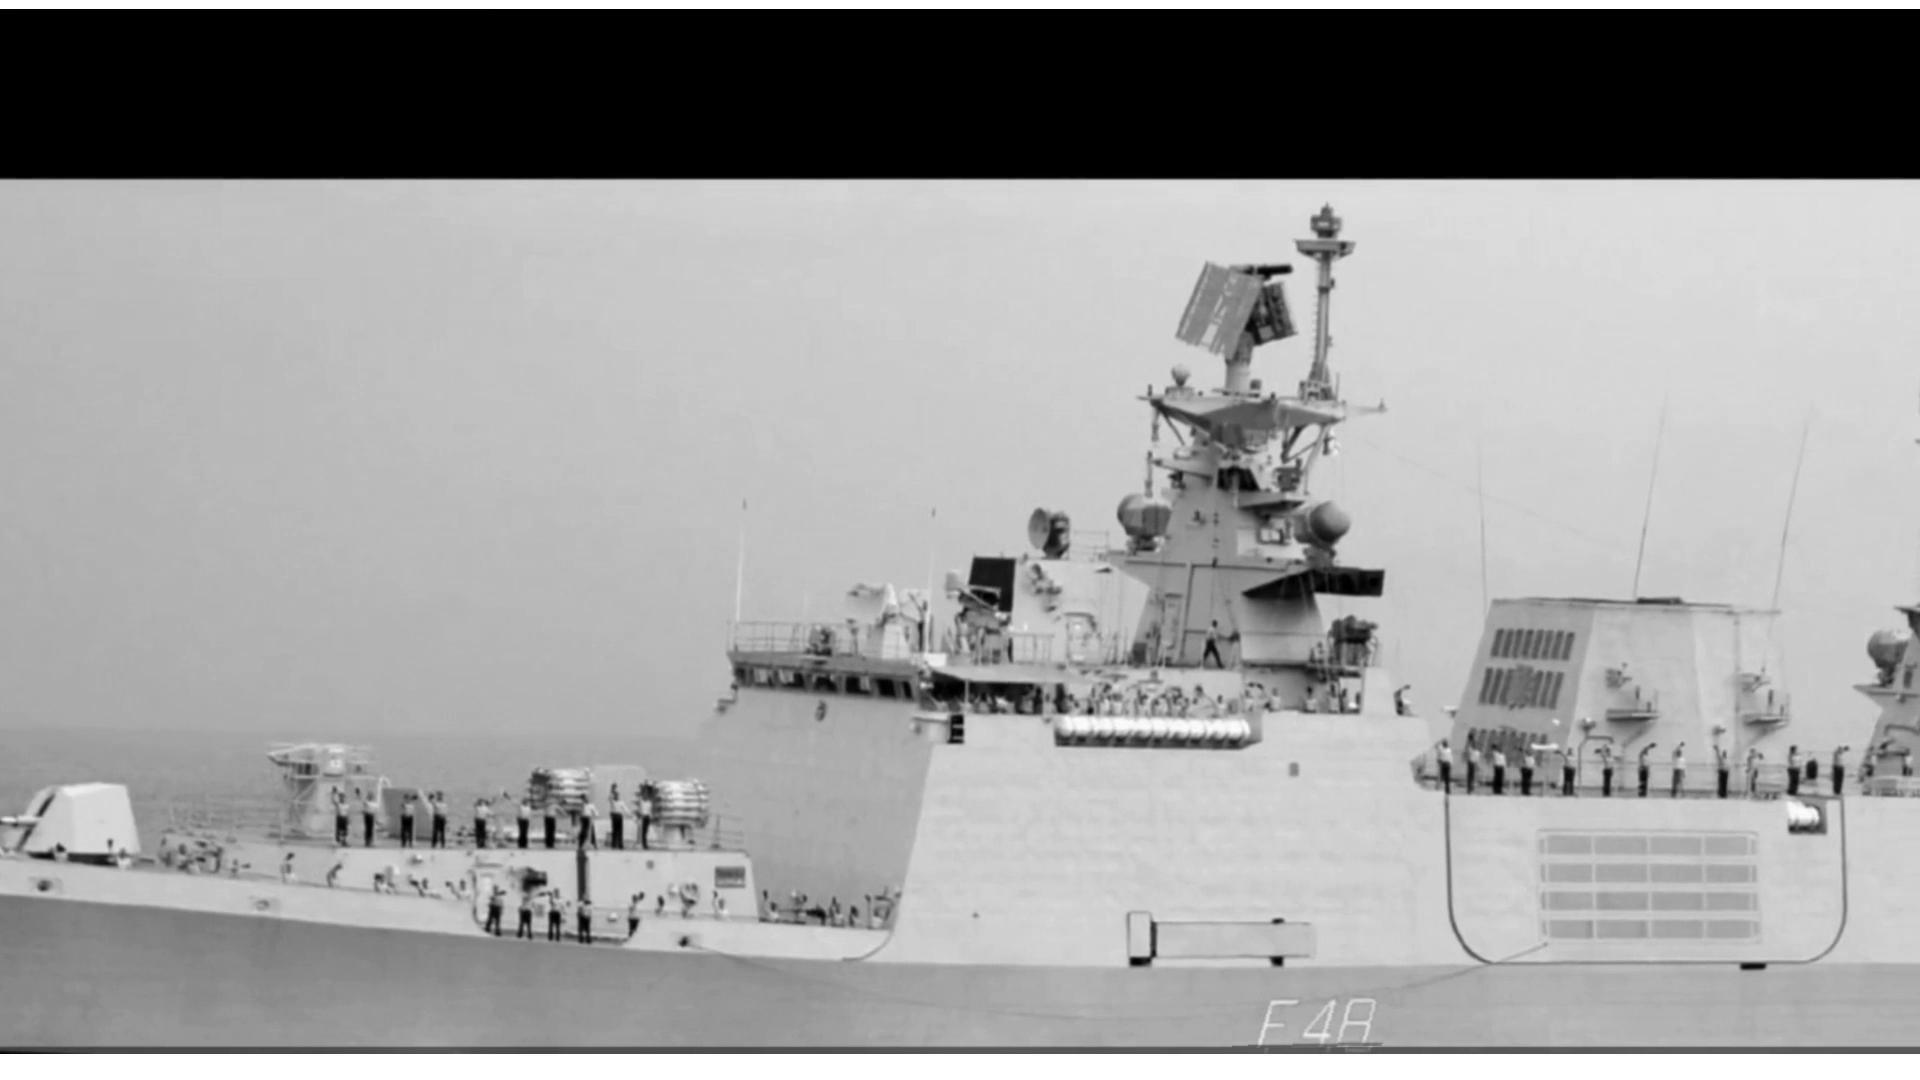OCR: (1233, 988, 1390, 1050)
